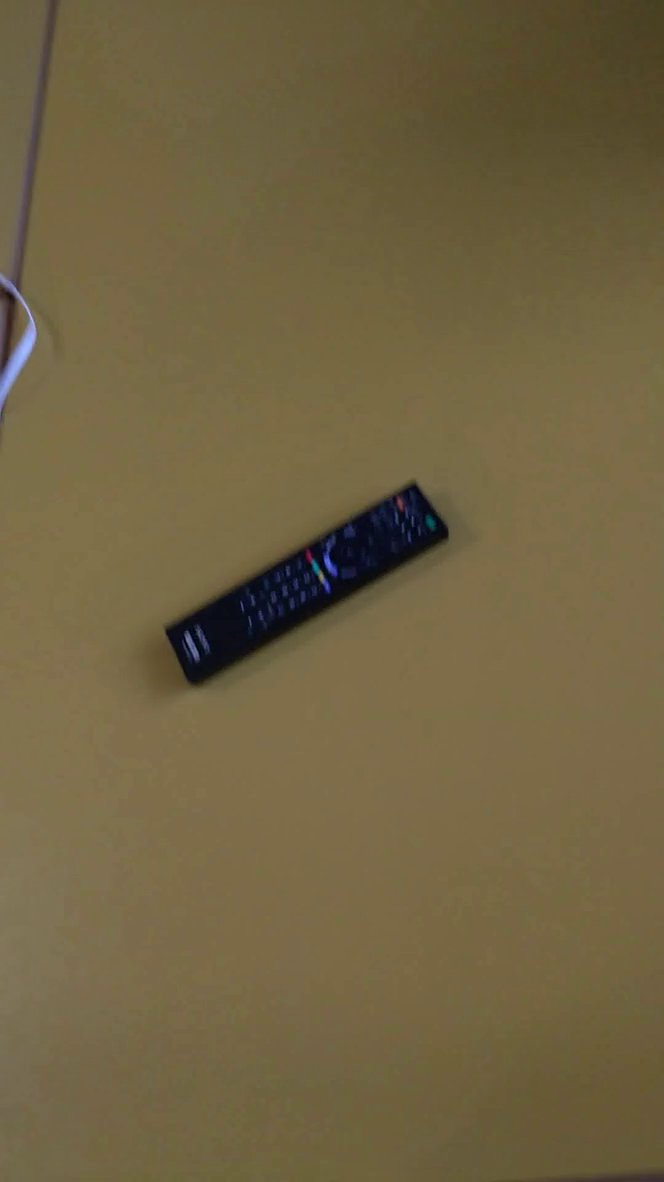remote: (160, 466, 458, 705)
